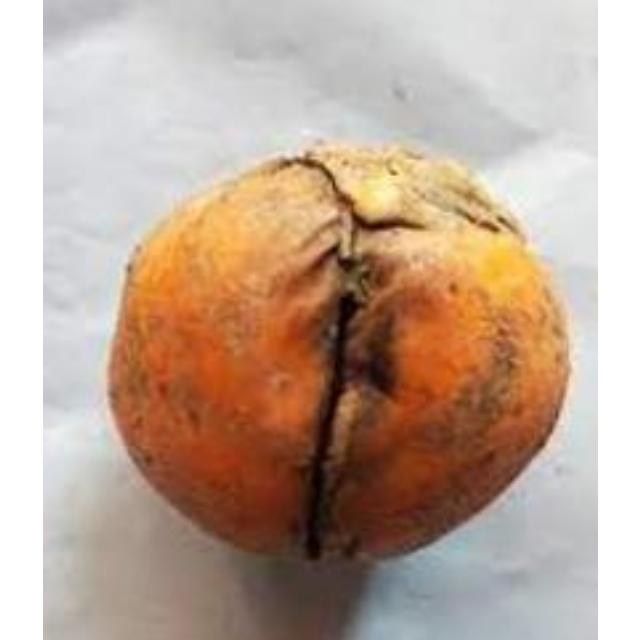damaged: (103, 141, 576, 566)
